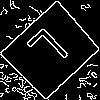L: (26, 25, 77, 79)
